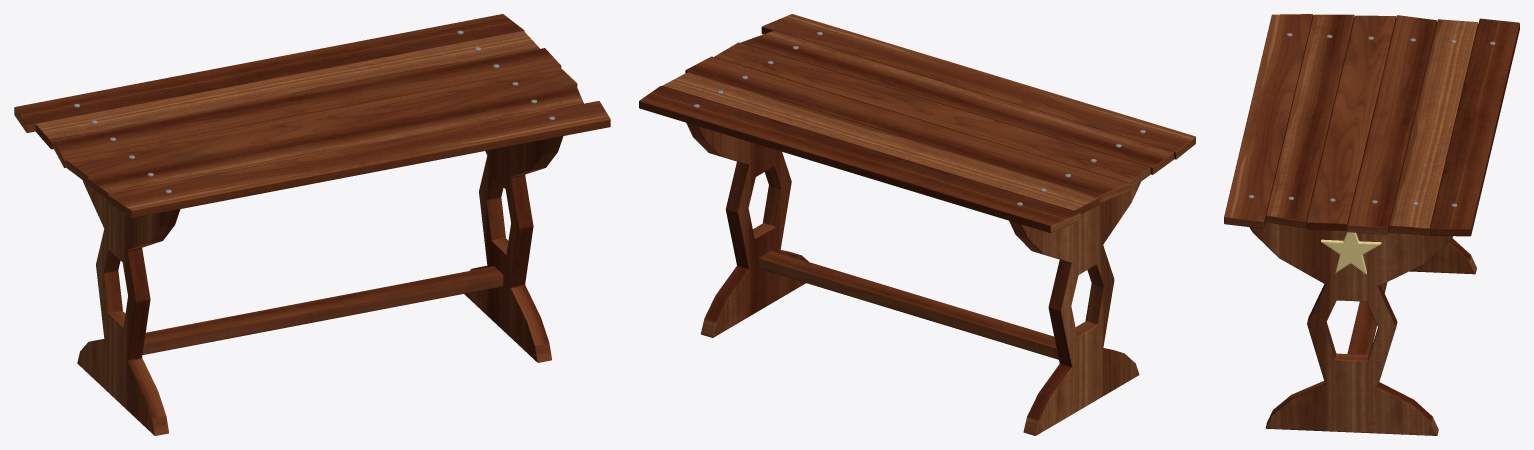
File: Table.fbx
3 renders of one model, left to right at view 1: azimuth 30°, elevation 25°; view 2: azimuth 150°, elevation 25°; view 3: azimuth 270°, elevation 25°, orthographic. The views are drawn at different scales.
Visible parts, largest first — view 1: Cube.035; view 2: Cube.035; view 3: Cube.035.
Part boxes in pixels (left/top/right/bottom): Cube.035: left=14, top=14, right=610, bottom=435; Cube.035: left=639, top=14, right=1195, bottom=435; Cube.035: left=1224, top=14, right=1519, bottom=435.
Bounding box in the file's own units: 312 × 155 × 181.
